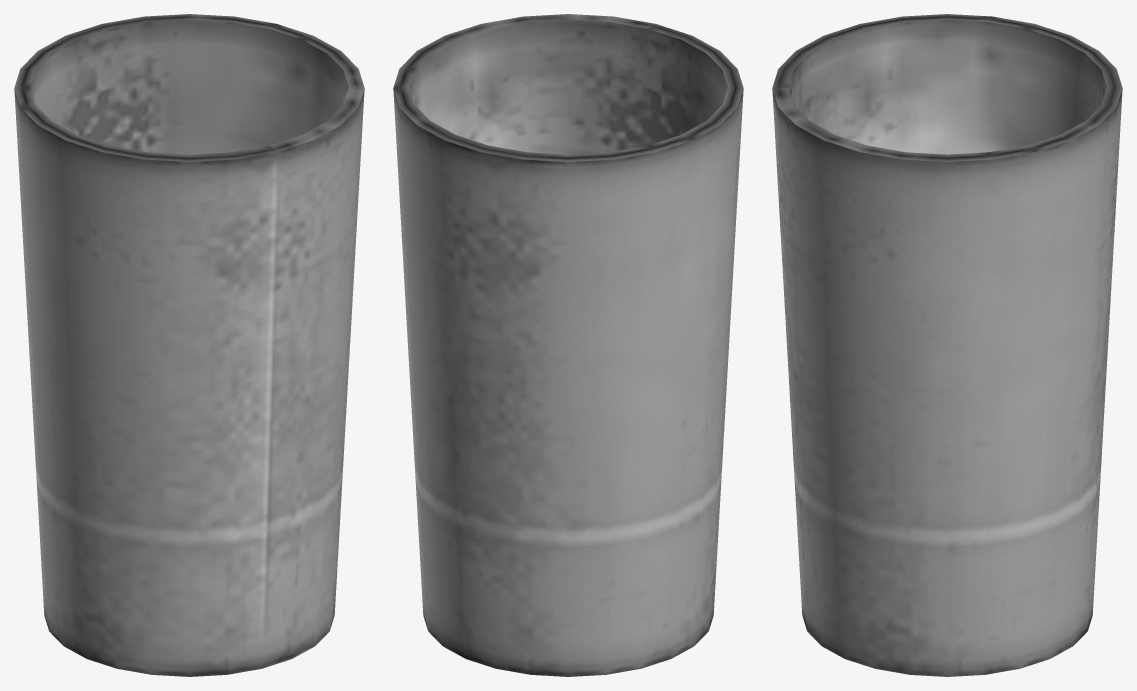
Rendered from SM_TallGlass.fbx.
3 views of the same model, side by side, from view 1: azimuth 30°, elevation 25°; view 2: azimuth 150°, elevation 25°; view 3: azimuth 270°, elevation 25° (orthographic).
Visible parts, largest first — view 1: SM_TallGlass; view 2: SM_TallGlass; view 3: SM_TallGlass.
Boxes of the visible parts, <box> form: SM_TallGlass: <box>14,14,364,676</box>; SM_TallGlass: <box>393,14,743,676</box>; SM_TallGlass: <box>772,14,1122,676</box>.
Size of the model in its own units: 0.0821 by 0.1366 by 0.0821.
